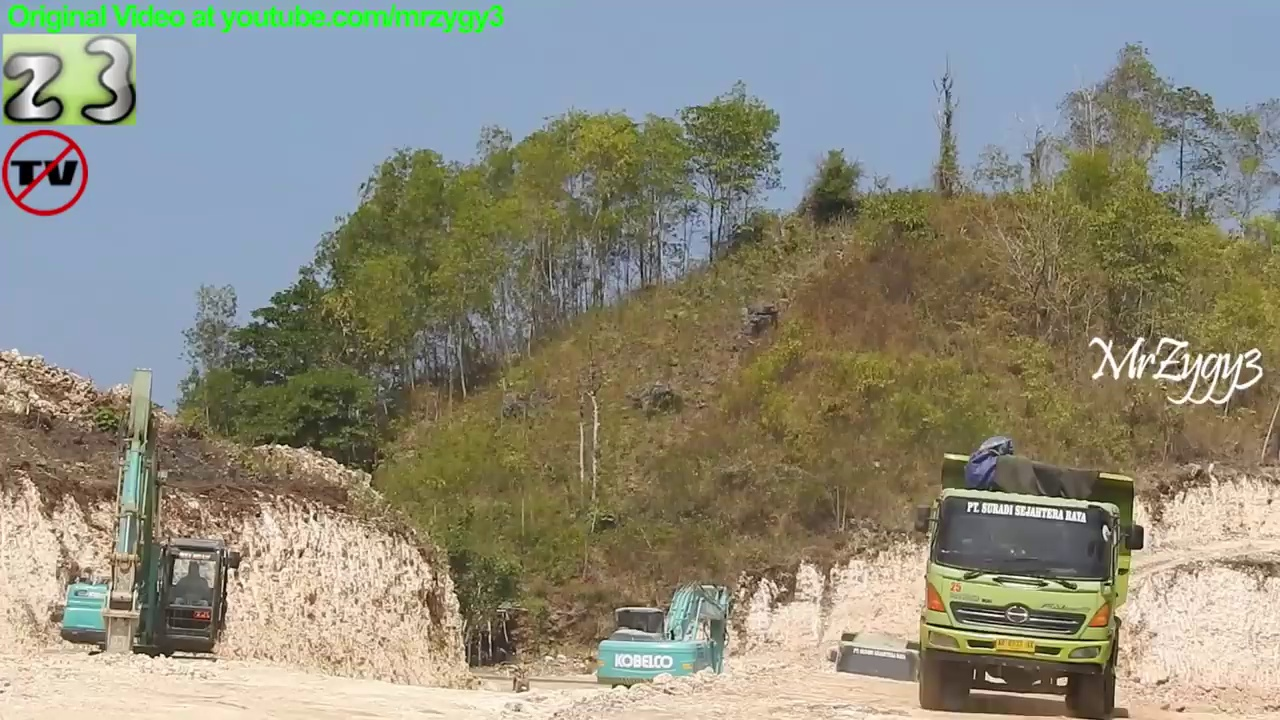excavator: (55, 362, 246, 698), (591, 579, 737, 714)
truck: (909, 444, 1153, 720), (824, 627, 930, 720)
